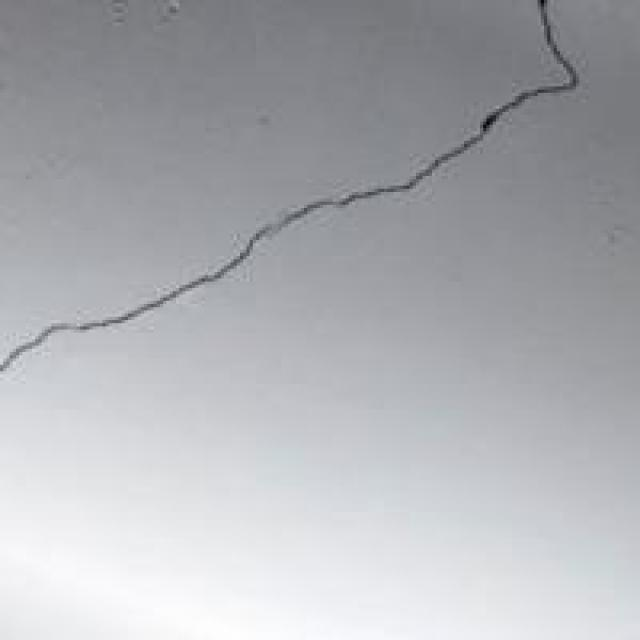crack: (0, 0, 595, 438)
